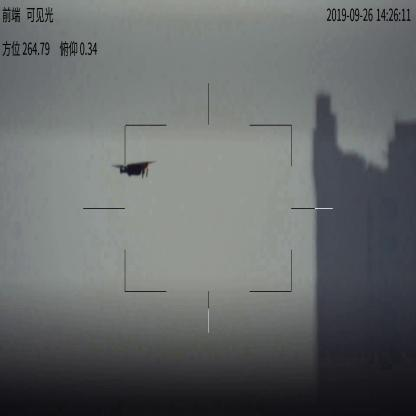uav: (109, 159, 156, 178)
